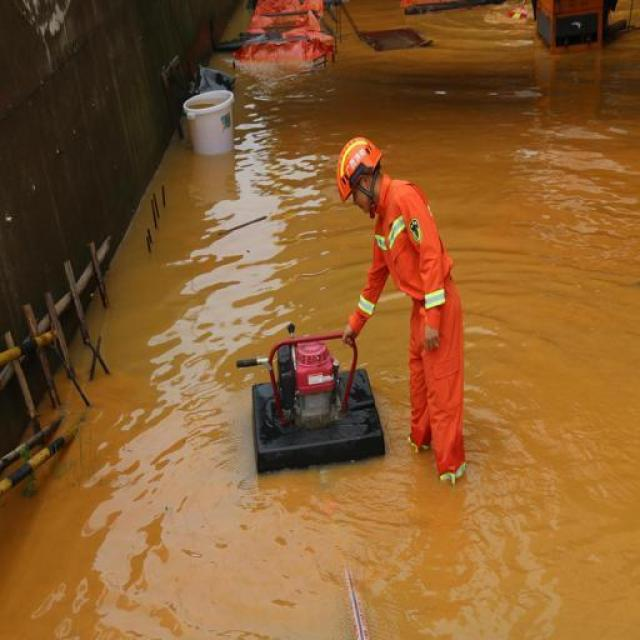rescuer: (316, 122, 505, 513)
